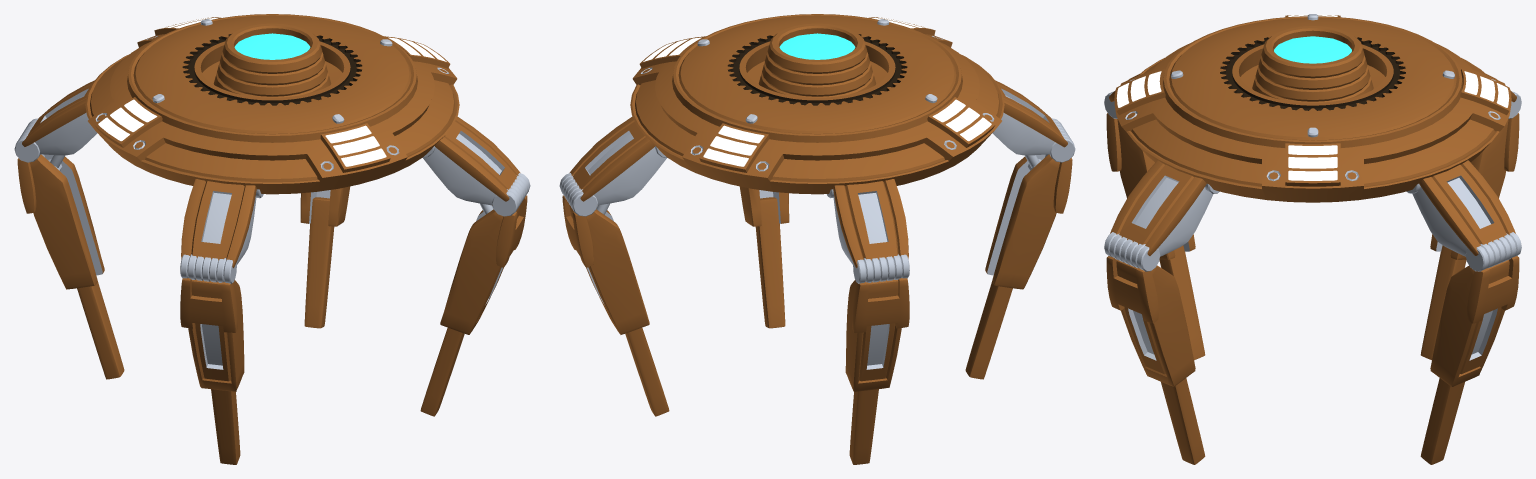
File: hologram_projector.glb
3 renders of one model, left to right at view 1: azimuth 30°, elevation 25°; view 2: azimuth 150°, elevation 25°; view 3: azimuth 270°, elevation 25°, orthographic. The views are drawn at different scales.
Visible parts, largest first — view 1: Object_8, Object_7, Object_9, Object_2, Object_5, Object_3, Object_4; view 2: Object_8, Object_7, Object_9, Object_2, Object_5, Object_3, Object_4; view 3: Object_8, Object_7, Object_9, Object_2, Object_5, Object_3, Object_4.
Part boxes in pixels (box(x1,y1,x2,y2)): Object_8: box(85, 14, 525, 328); Object_7: box(17, 80, 527, 464); Object_9: box(14, 19, 530, 369); Object_2: box(213, 23, 331, 97); Object_5: box(98, 17, 446, 166); Object_3: box(182, 34, 362, 105); Object_4: box(234, 33, 310, 59); Object_8: box(564, 14, 1004, 328); Object_7: box(562, 80, 1072, 464); Object_9: box(559, 19, 1075, 369); Object_2: box(758, 23, 876, 97); Object_5: box(643, 17, 991, 166); Object_3: box(727, 34, 907, 105); Object_4: box(779, 33, 855, 59); Object_8: box(1112, 15, 1513, 310); Object_7: box(1106, 74, 1519, 464); Object_9: box(1104, 14, 1521, 360); Object_2: box(1252, 26, 1373, 102); Object_5: box(1116, 14, 1509, 180); Object_3: box(1220, 37, 1405, 110); Object_4: box(1274, 36, 1351, 63).
Size of the model in its own units: 7.19 by 6.92 by 7.19.
